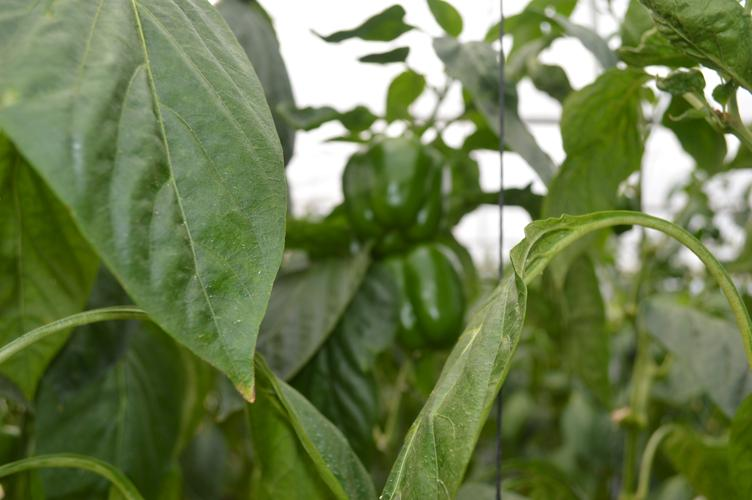BellPepper: (337, 135, 439, 245), (381, 247, 461, 348)
